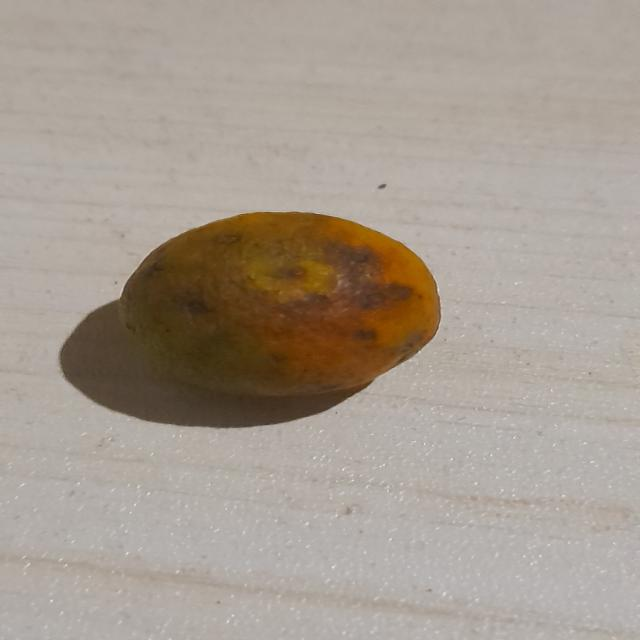black spot: (116, 205, 450, 407)
